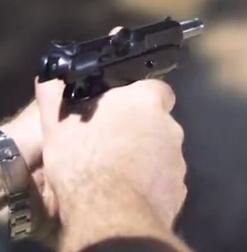gun: (1, 1, 247, 252)
